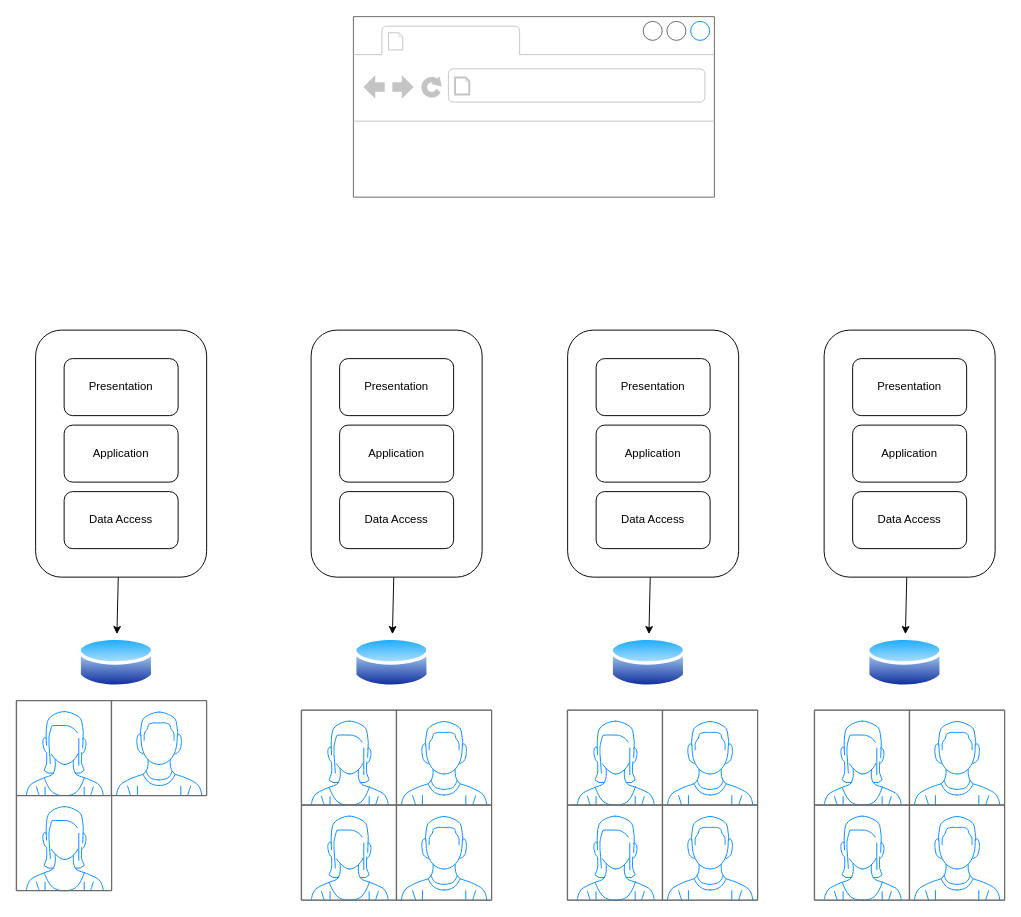
Image size: 1021x917. Some labels were removed from this diagram. The shapes that lost their labels are listed below. From the top down, each one's box as (x1, y1, x2, y2) in pixels, then its label:
(409, 27, 515, 53): Page 1
(476, 73, 714, 98): https://www.draw.io
